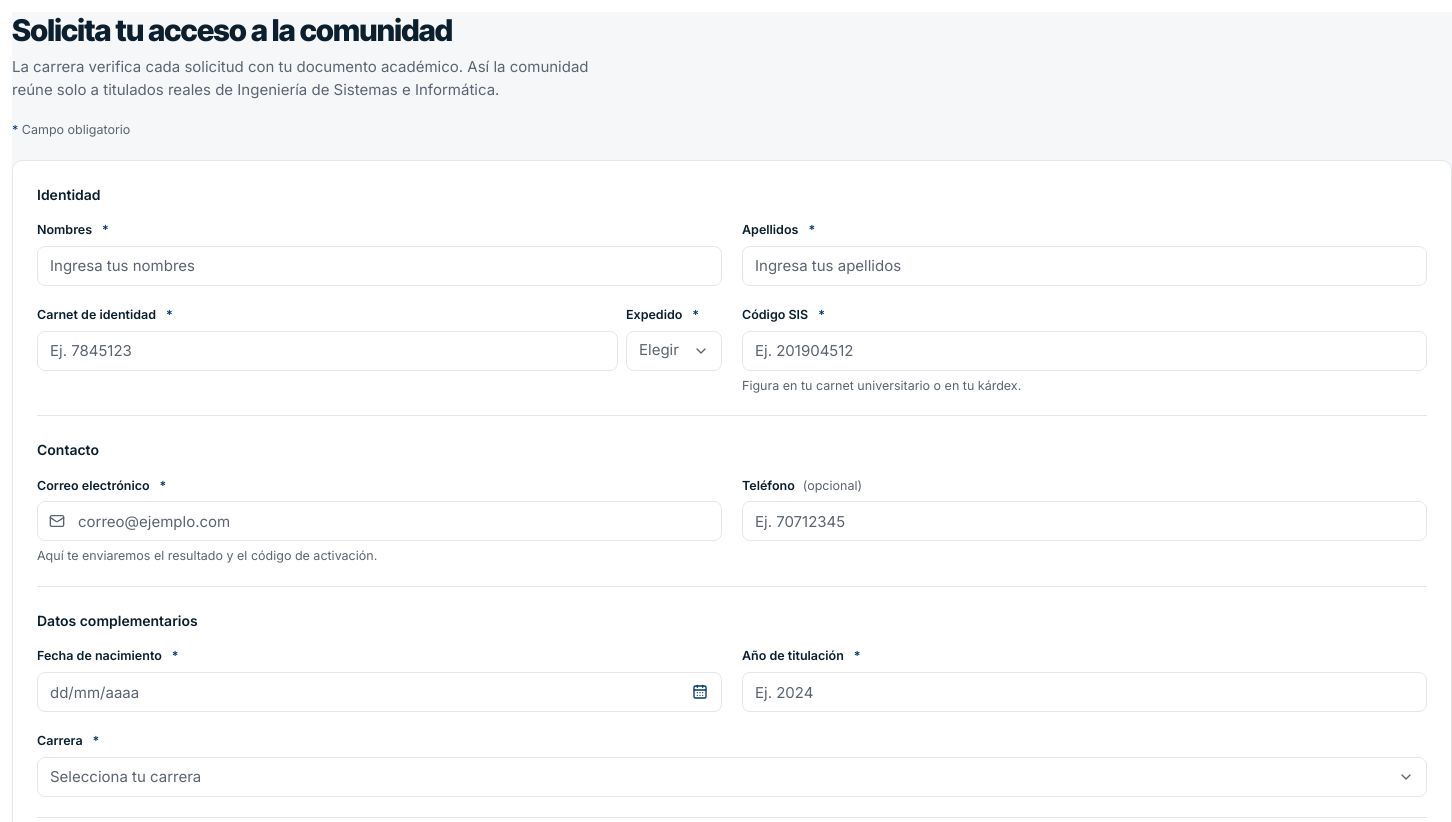
it: PersonalDataForm › ofrece las dos carreras del catálogo
The width and height of the screenshot is (1452, 822).
Step 1. Click the dropdown labelled "carrera" → [126, 776], box 37,757 -> 1427,797
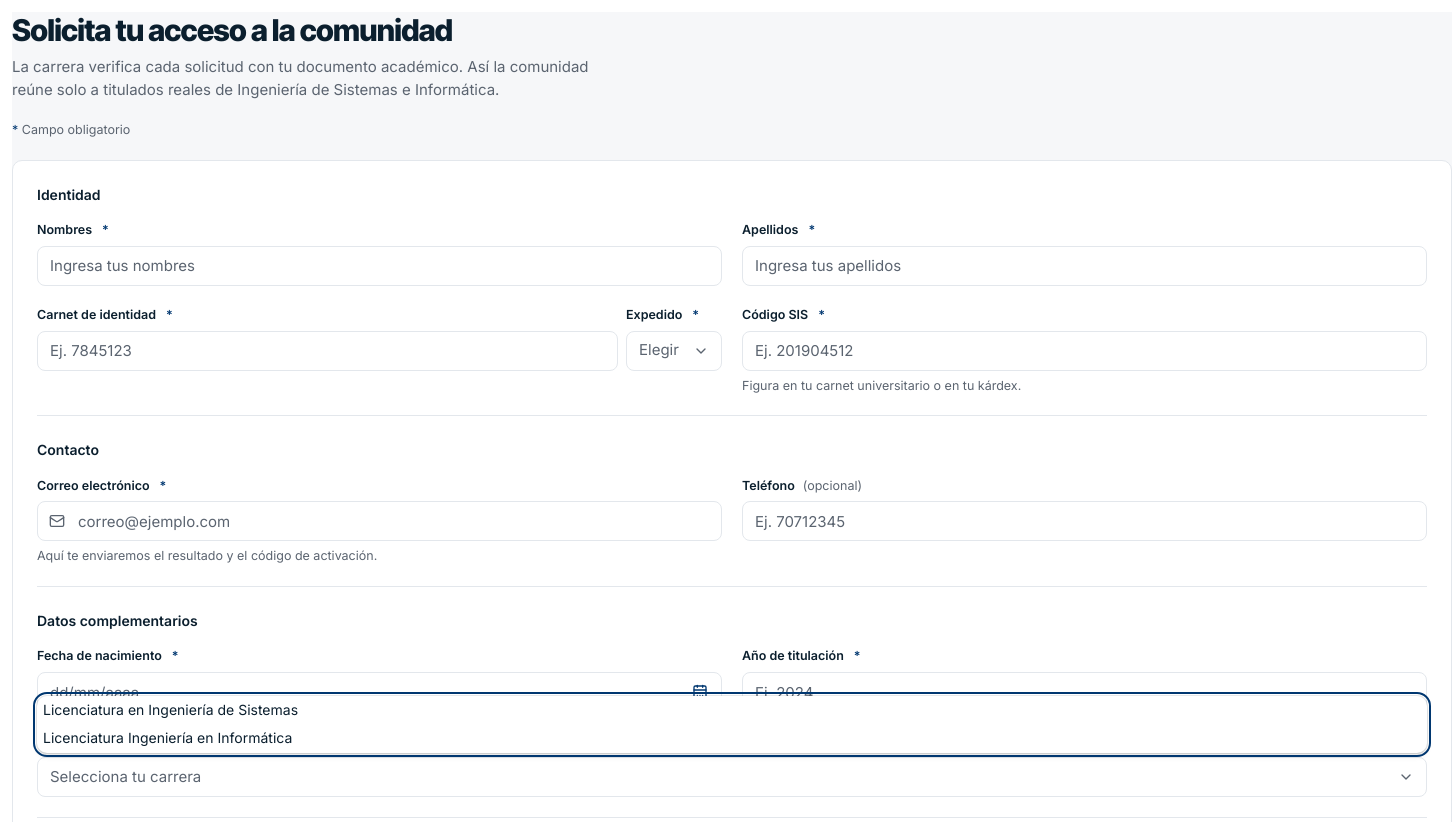
Result: the options read "Licenciatura en Ingeniería de Sistemas", "Licenciatura Ingeniería en Informática", in this order at 43,701 -> 298,718; 43,729 -> 292,746
